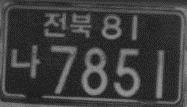1: (154, 48, 165, 100), (129, 13, 139, 41)
5: (112, 47, 140, 97)
7: (48, 43, 77, 96)
8: (81, 46, 109, 96), (100, 12, 123, 40)
나: (11, 43, 41, 78)
전북_O: (42, 11, 91, 38)
